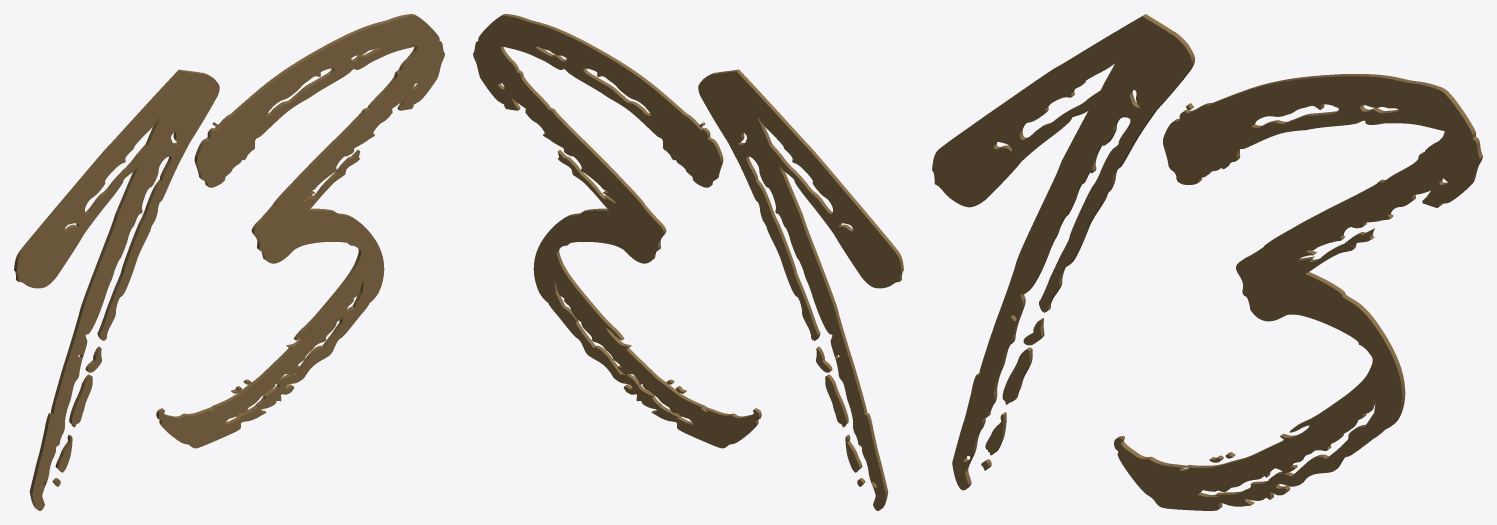
The model's file is Three_13.glb.
3 renders of one model, left to right at view 1: azimuth 30°, elevation 25°; view 2: azimuth 150°, elevation 25°; view 3: azimuth 330°, elevation 25°, orthographic. The views are drawn at different scales.
Parts seen in each view (by area): view 1: Text; view 2: Text; view 3: Text.
Boxes of the visible parts, <box> form: Text: <box>14,14,444,510</box>; Text: <box>473,14,903,510</box>; Text: <box>932,14,1482,510</box>.
Size of the model in its own units: 3.99 by 3.6 by 0.0407.
